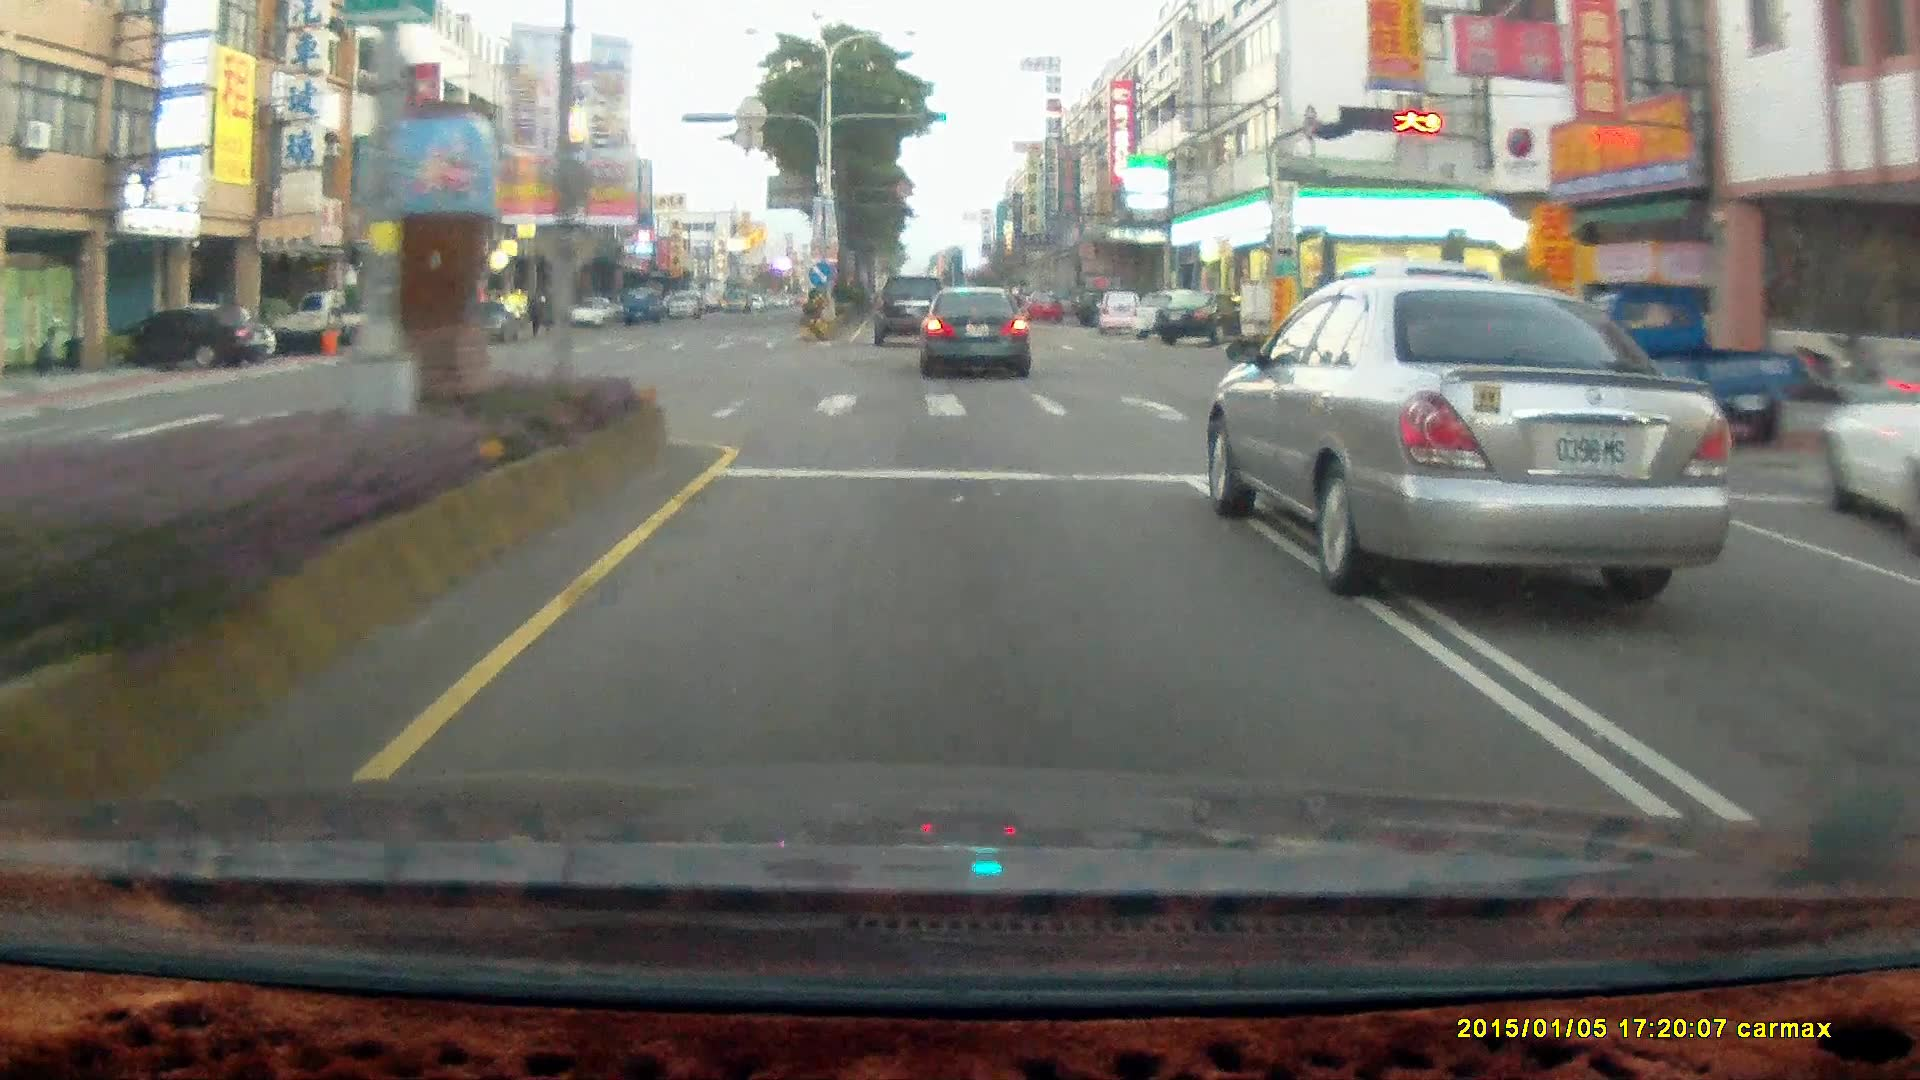pedestrian: (521, 292, 542, 338)
vehicle: (1203, 272, 1730, 587), (1545, 278, 1797, 446), (1553, 281, 1796, 450), (1306, 261, 1540, 416), (1812, 329, 1920, 551), (1811, 328, 1919, 550), (921, 286, 1033, 381), (98, 305, 268, 366), (919, 283, 1030, 377), (129, 303, 275, 367), (266, 289, 407, 353), (282, 291, 412, 358), (874, 272, 955, 349), (1155, 287, 1259, 342), (875, 273, 951, 344), (1160, 290, 1248, 348), (1130, 290, 1201, 339), (455, 304, 519, 342), (1091, 288, 1143, 332), (1070, 285, 1128, 325), (1097, 290, 1144, 336), (568, 295, 615, 326), (1022, 290, 1059, 321), (624, 289, 658, 320), (660, 289, 693, 314)
